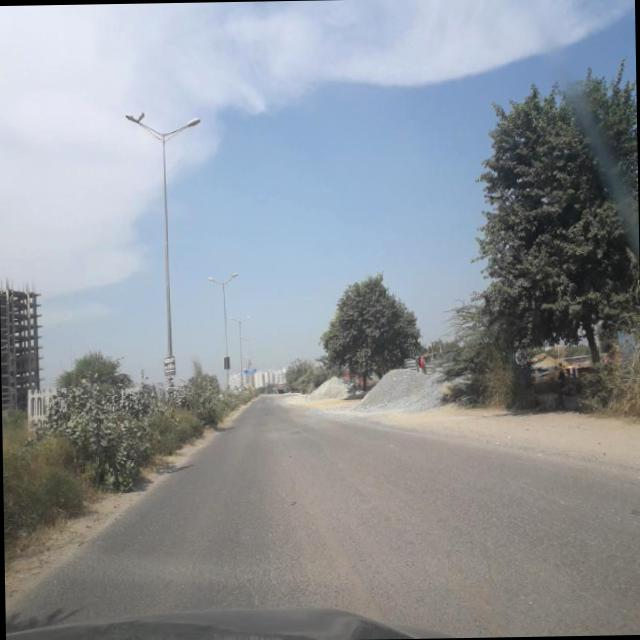crack: (126, 451, 640, 604)
